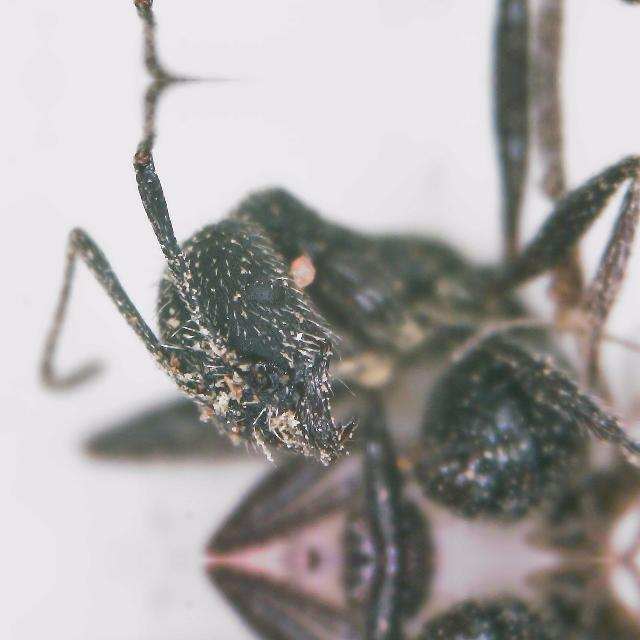Apheanogaster: (19, 80, 639, 560)
